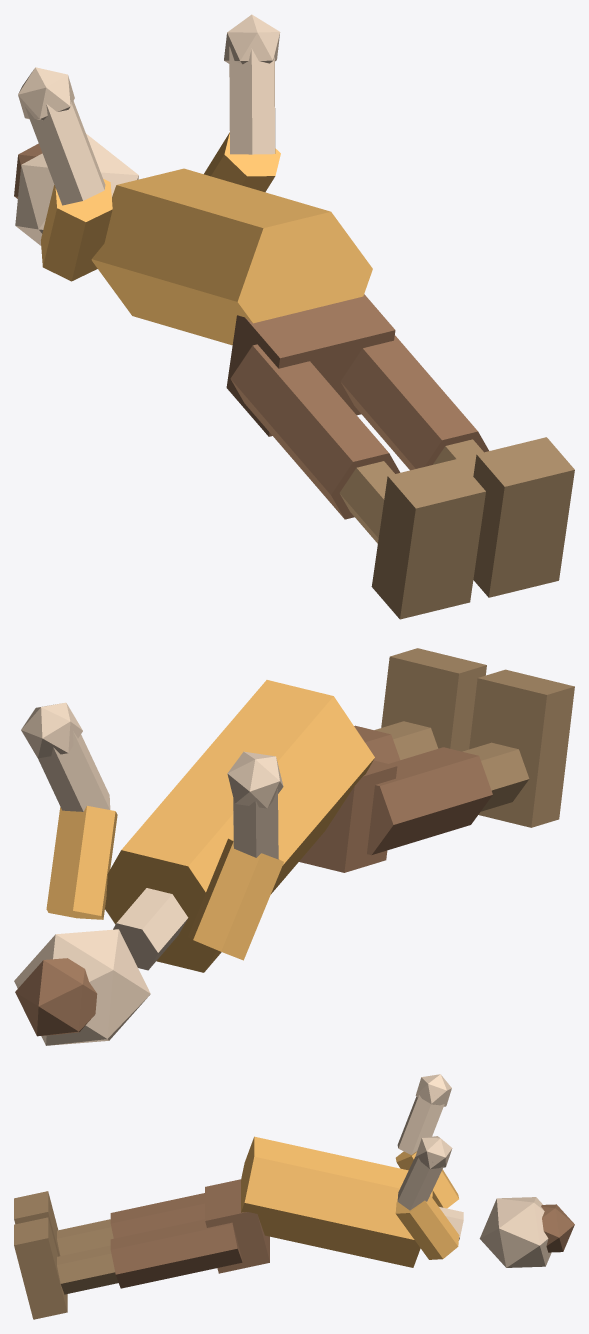
The model's file is pose_dodge_roll_32.glb.
3 views of the same model, one above another, from view 1: azimuth 30°, elevation 25°; view 2: azimuth 150°, elevation 25°; view 3: azimuth 270°, elevation 25° (orthographic). The views are drawn at different scales.
Visible parts, largest first — view 1: pose; view 2: pose; view 3: pose.
Boxes of the visible parts, x1,y1,x2,y2 form: pose: (14, 14, 574, 619); pose: (14, 648, 574, 1045); pose: (14, 1074, 574, 1319).
Bounding box in the file's own units: 0.5074 × 0.5971 × 1.6.
